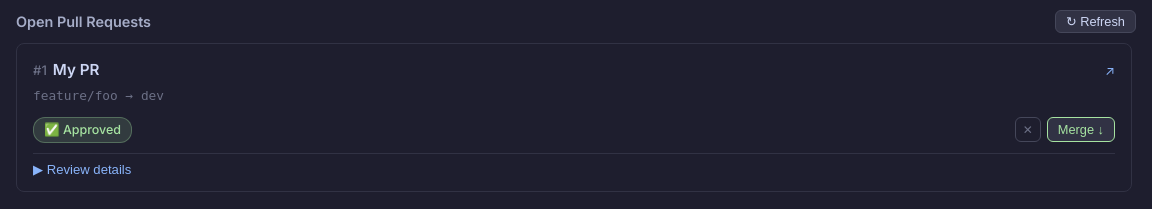
Test: PRPanel — inflight state cleared by WS events › clears checkingMergeability when prMergeabilityChangedEvent arrives
Click the button "Merge ↓": (1081,130) [1047,117,1115,142]
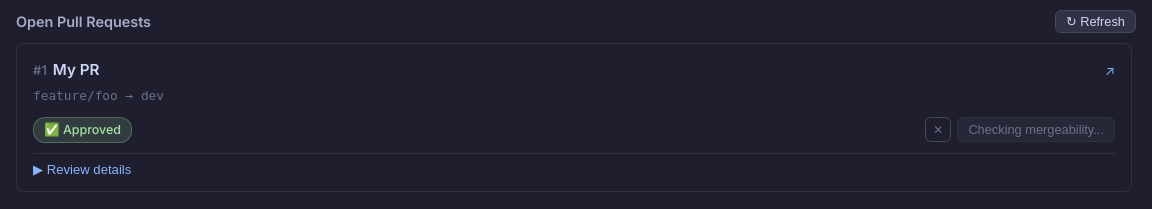
Expected: the button "Checking mergeability..." is shown, [957,117,1115,142]
